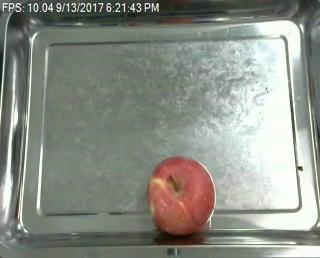apple: (146, 156, 216, 236)
